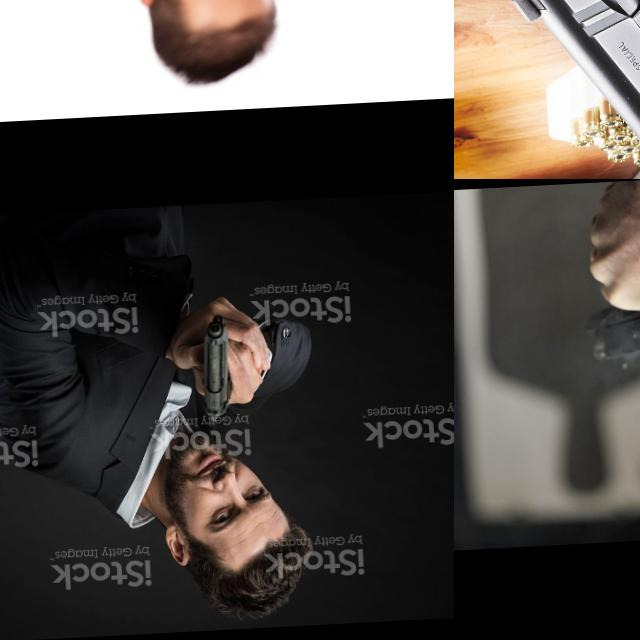handgun: (500, 0, 640, 179), (307, 0, 454, 98), (576, 295, 640, 393), (192, 308, 242, 424)
